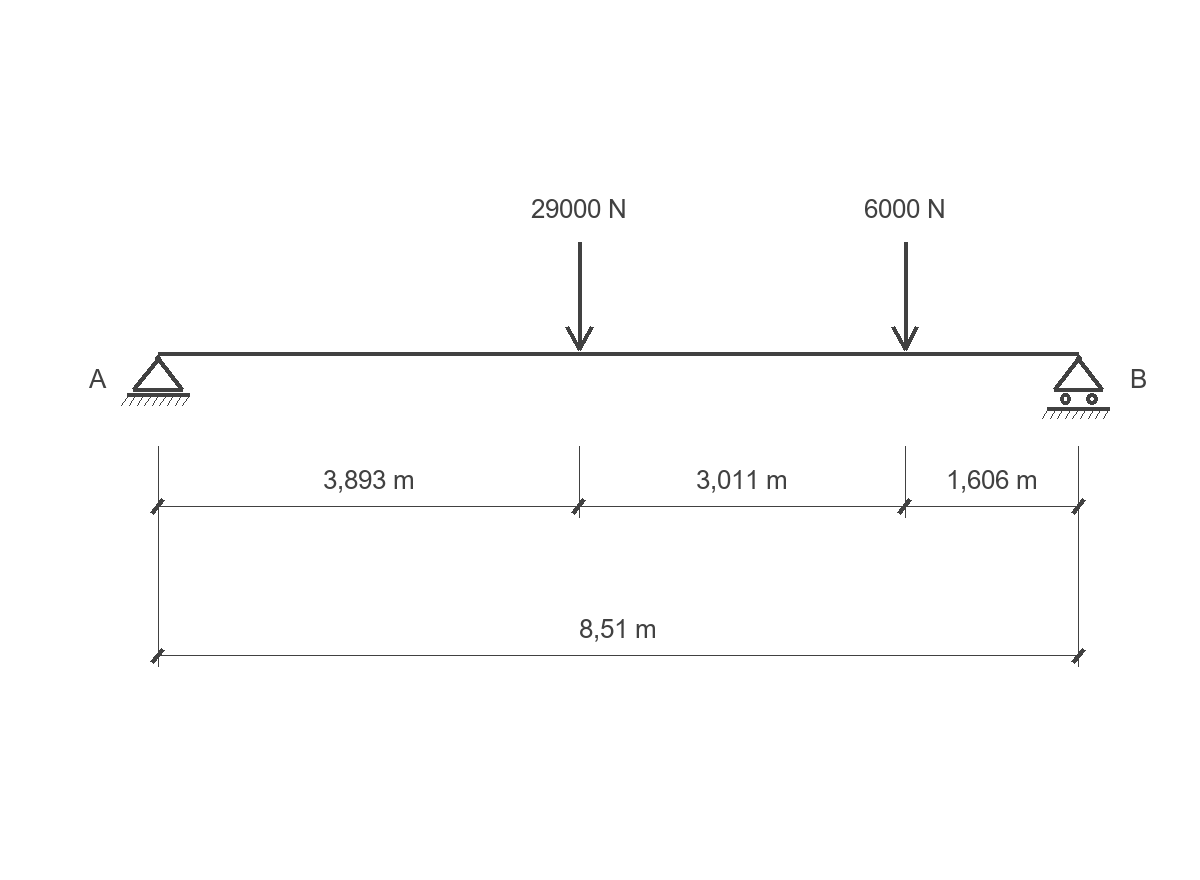pin_support: (121, 355, 190, 406)
point_load: (565, 242, 594, 351), (891, 242, 919, 351)
roller_support: (1042, 355, 1110, 419)
